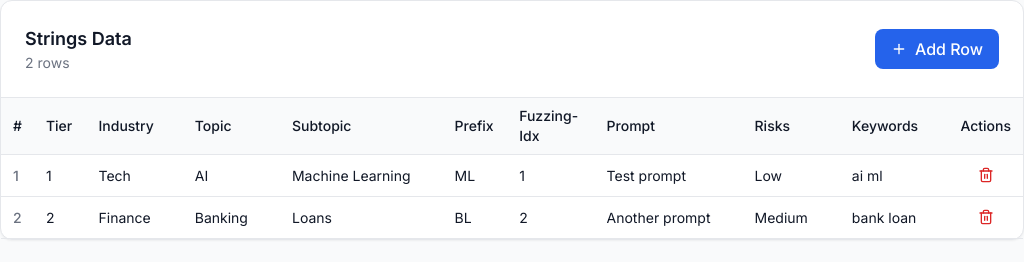
Scenario: DataTable Component › handles cell editing
Click on a cell to start editing
Click the text "Tech". click: x=115, y=175
box: top-left (98, 166), bottom-right (131, 184)
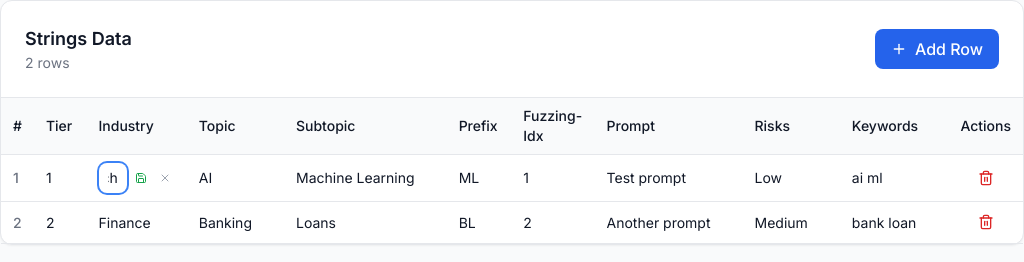
Now the field showing "Tech" is shown, box top-left (98, 163), bottom-right (127, 193)
